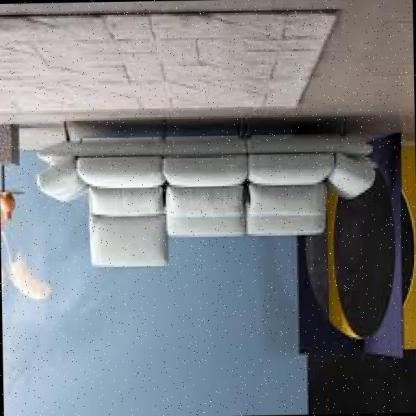Sofa: (32, 103, 386, 272)
